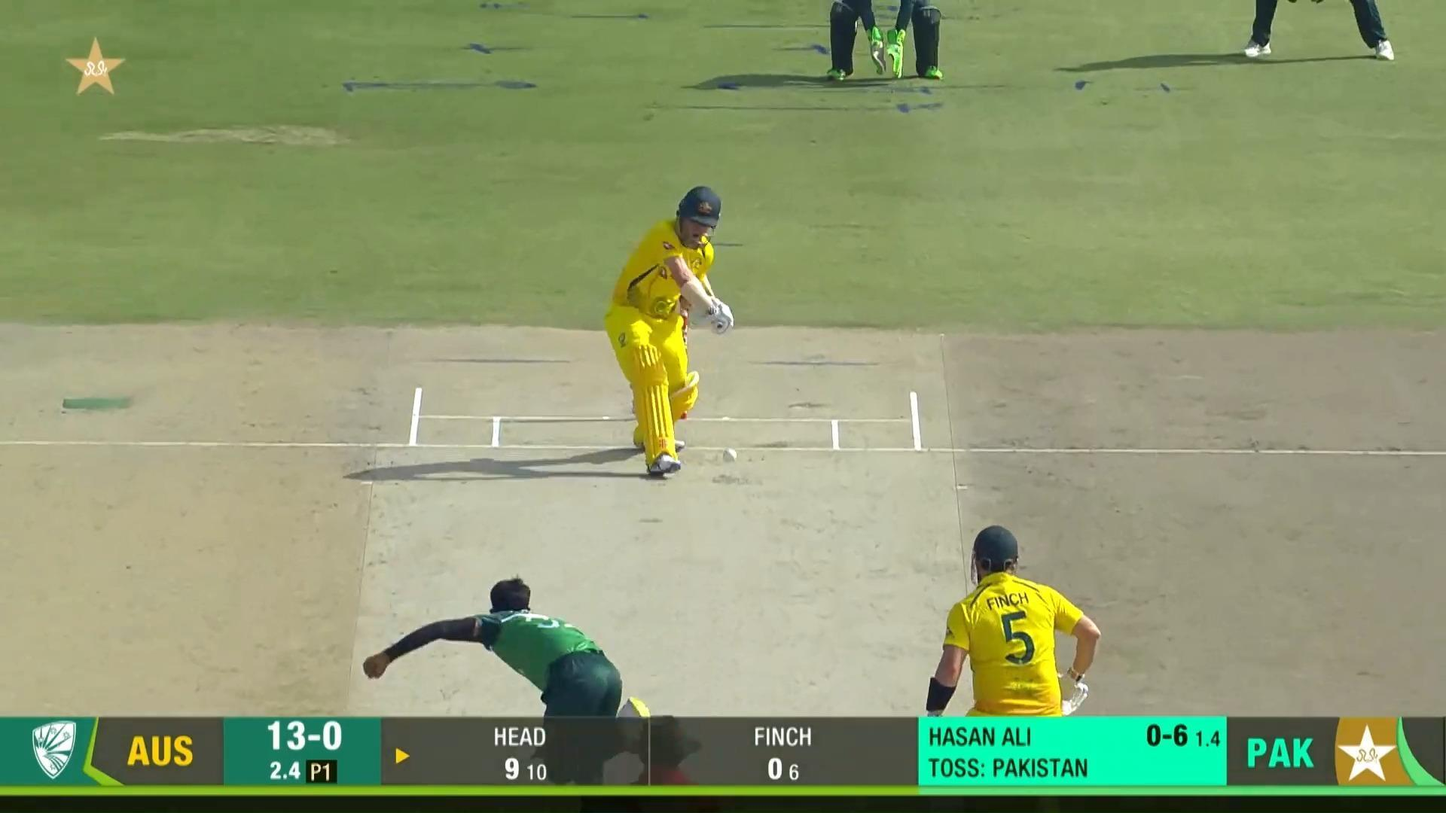BM 1: (605, 185, 736, 476)
BO: (361, 573, 660, 813)
